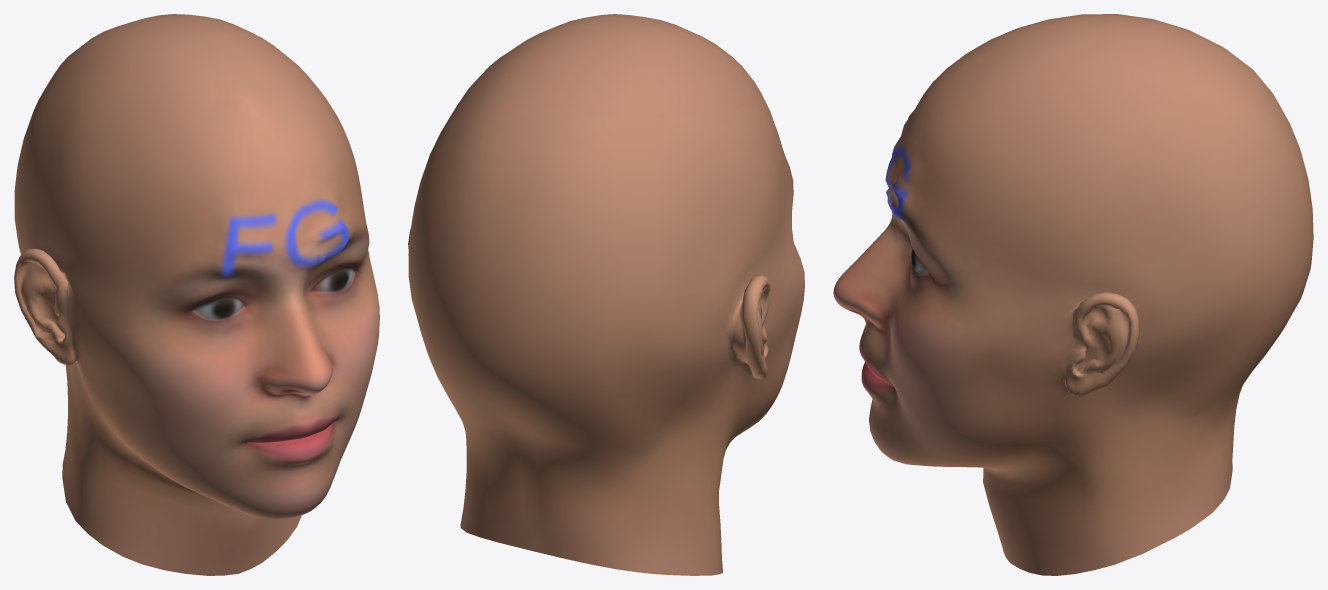
File: avg_anyrace_female.obj
3 views of the same model, side by side, from view 1: azimuth 30°, elevation 25°; view 2: azimuth 150°, elevation 25°; view 3: azimuth 270°, elevation 25° (orthographic). The views are drawn at different scales.
Parts seen in each view (by area): view 1: HeadHires; view 2: HeadHires; view 3: HeadHires.
Part boxes in pixels (x1,y1,x2,y2): HeadHires: [14, 14, 379, 575]; HeadHires: [408, 14, 804, 575]; HeadHires: [833, 14, 1313, 575].
Bounding box in the file's own units: 189 × 283 × 236.
Materials: 3 (3 with a texture image).
